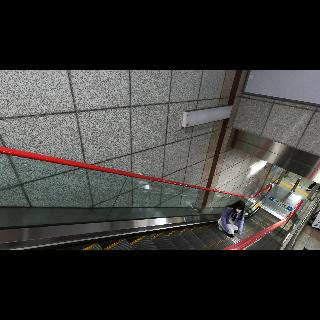anomaly: (218, 200, 246, 238)
